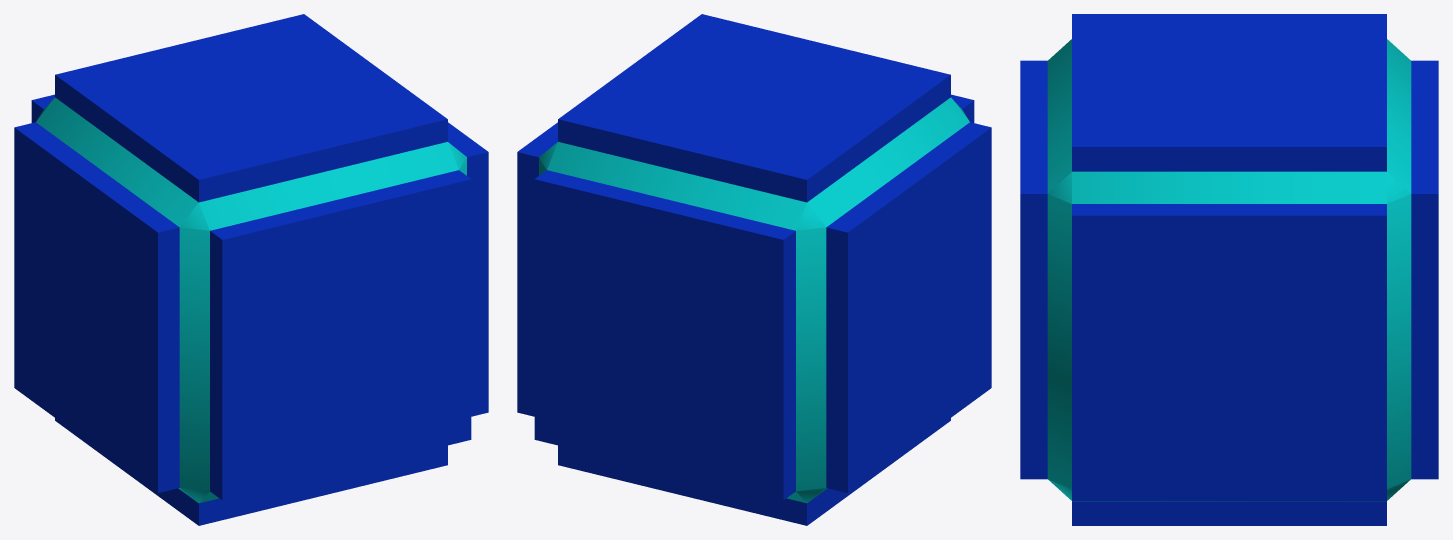
Rendered from boxBlock.fbx.
3 views of the same model, side by side, from view 1: azimuth 30°, elevation 25°; view 2: azimuth 150°, elevation 25°; view 3: azimuth 270°, elevation 25° (orthographic). The views are drawn at different scales.
Parts seen in each view (by area): view 1: BoxBlock; view 2: BoxBlock; view 3: BoxBlock.
Part boxes in pixels (x1,y1,x2,y2): BoxBlock: (14,14,488,525); BoxBlock: (517,14,991,525); BoxBlock: (1020,14,1438,525).
Size of the model in its own units: 100 by 100 by 100.
